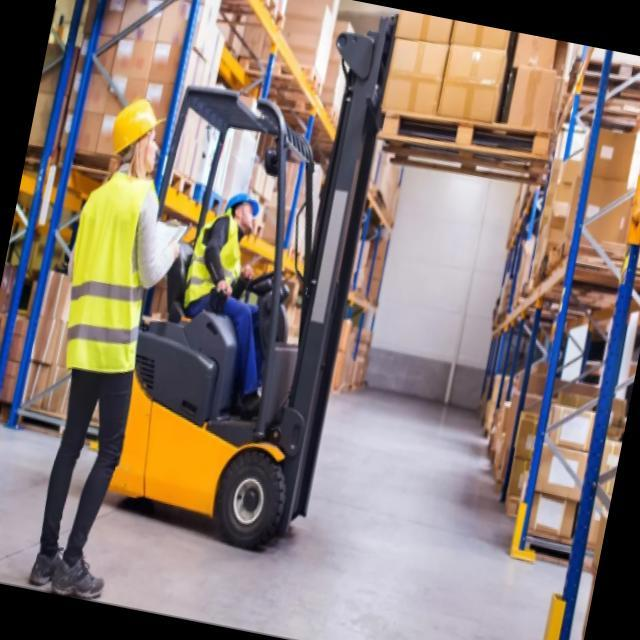hard_hat: (102, 95, 173, 184), (221, 188, 264, 235)
shoes: (25, 539, 111, 604), (235, 377, 287, 417)
vest: (49, 167, 174, 388), (178, 205, 253, 324)
